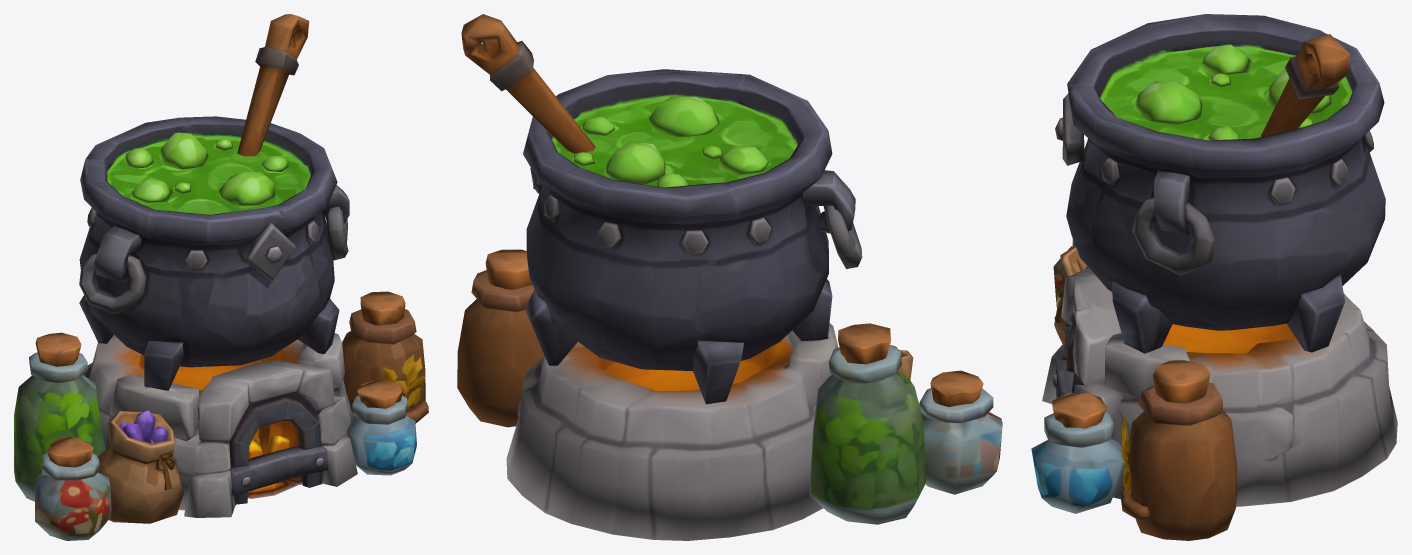
File: atelier_chaudron.glb
3 renders of one model, left to right at view 1: azimuth 30°, elevation 25°; view 2: azimuth 150°, elevation 25°; view 3: azimuth 270°, elevation 25°, orthographic. The views are drawn at different scales.
Parts seen in each view (by area): view 1: geometry_0; view 2: geometry_0; view 3: geometry_0.
Part boxes in pixels (x1,y1,x2,y2): geometry_0: (14, 14, 428, 540); geometry_0: (457, 14, 1002, 540); geometry_0: (1031, 14, 1397, 540).
Size of the model in its own units: 0.9624 by 0.834 by 0.5942.
Materials: 1 (1 with a texture image).
